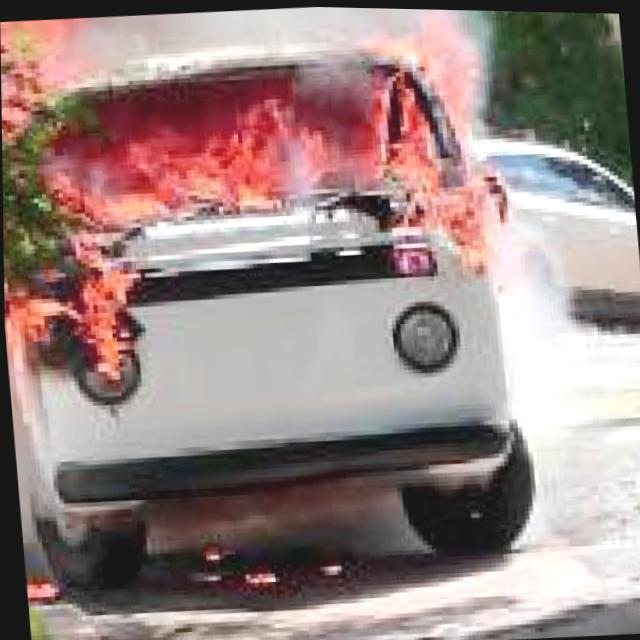smoke: (81, 1, 518, 60)
